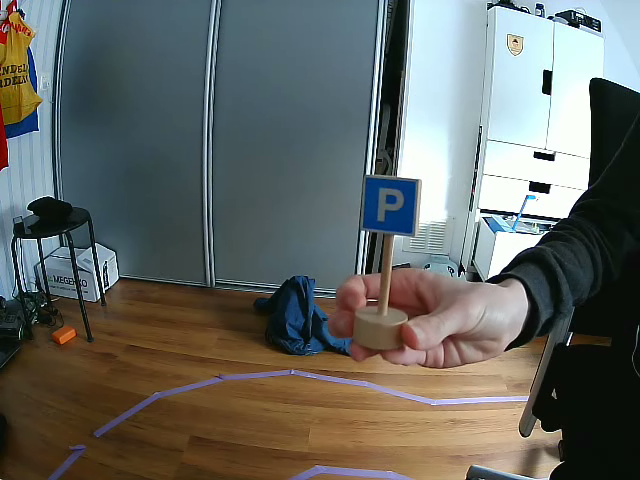parkeerbord: (363, 178, 417, 232)
